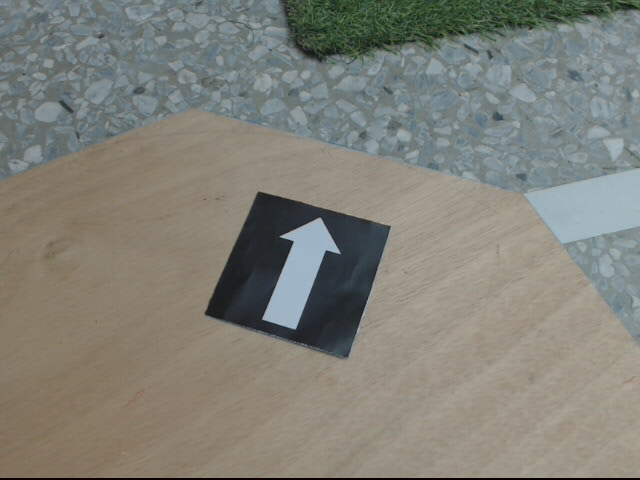straight: (208, 192, 396, 359)
